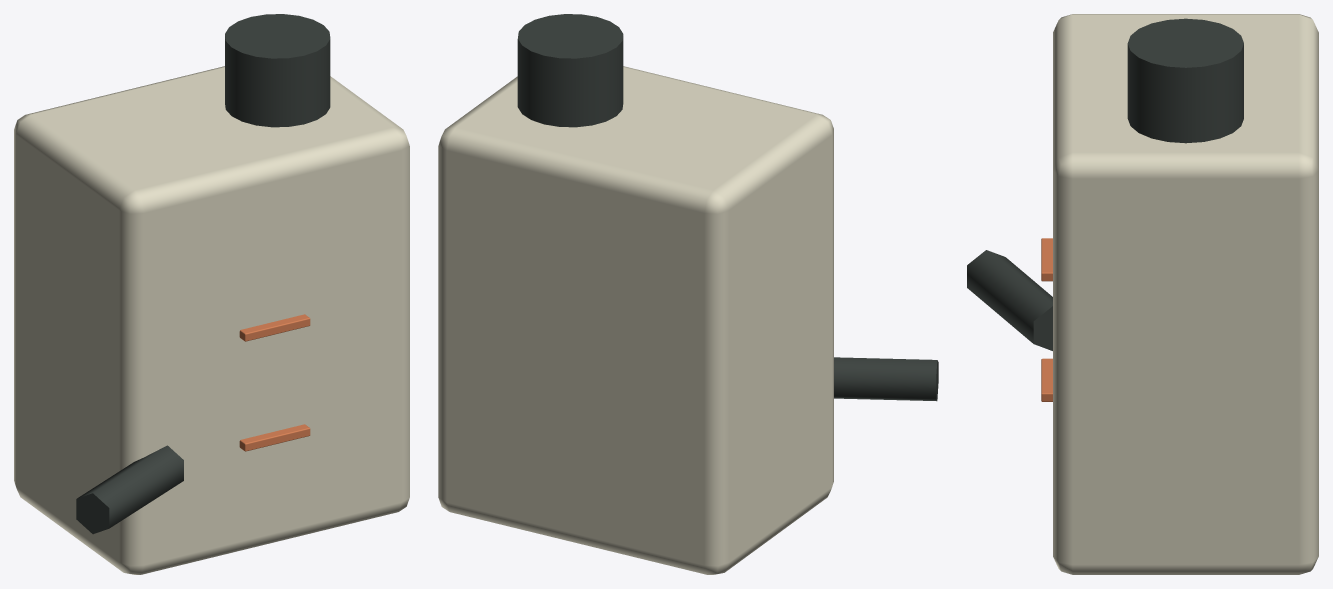
File: survivor-vehicle-maintenance-expansion-reservoir-85ed0c5d__26636.glb
3 renders of one model, left to right at view 1: azimuth 30°, elevation 25°; view 2: azimuth 150°, elevation 25°; view 3: azimuth 270°, elevation 25°, orthographic. The views are drawn at different scales.
Parts seen in each view (by area): view 1: expansion-reservoir; view 2: expansion-reservoir; view 3: expansion-reservoir.
Boxes of the visible parts, x1,y1,x2,y2 form: expansion-reservoir: (14,14,409,574); expansion-reservoir: (438,14,938,574); expansion-reservoir: (967,14,1318,574).
Size of the model in its own units: 0.2758 by 0.33 by 0.2116.
